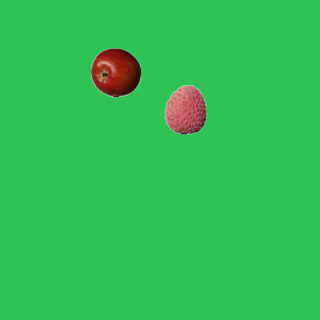Apple Braeburn: (90, 47, 140, 97)
Lychee: (160, 84, 210, 134)
